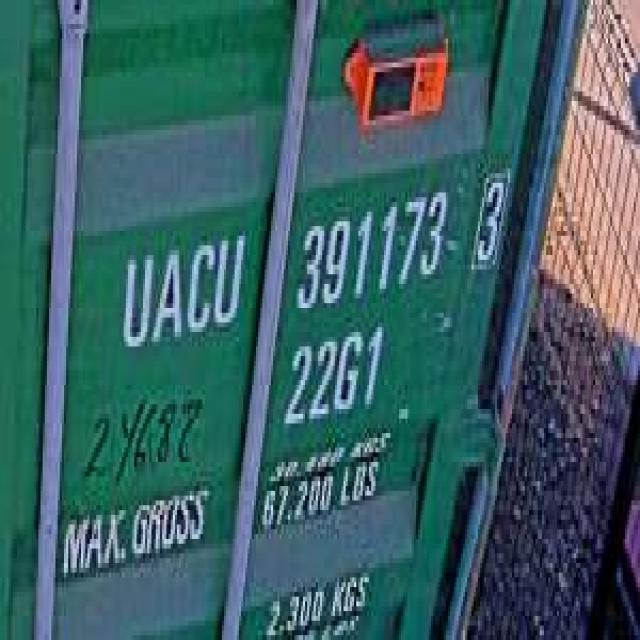dv: (469, 154, 508, 279)
owner: (116, 221, 246, 361)
serial: (290, 178, 450, 318)
size: (277, 318, 384, 433)
